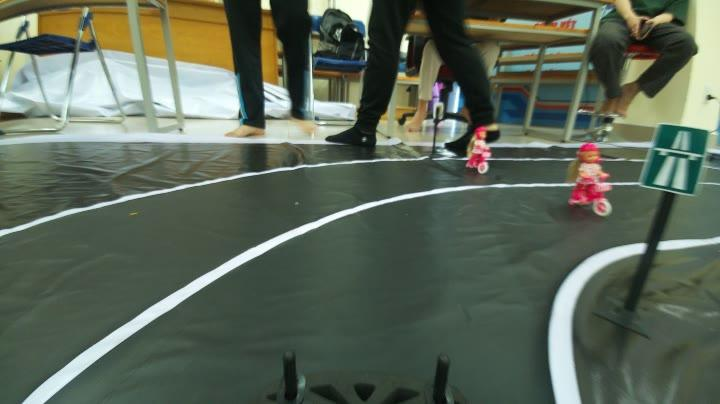highway_entry: (644, 121, 705, 194)
pedestrian: (566, 140, 618, 218), (465, 127, 497, 174)
